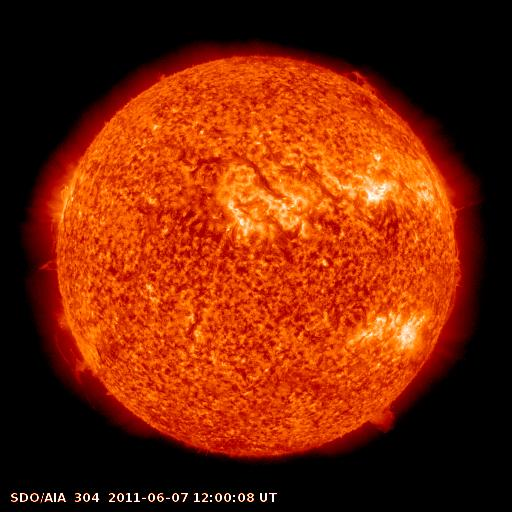prominence: (42, 307, 100, 389), (355, 384, 405, 444), (331, 60, 391, 109), (27, 250, 66, 284)
